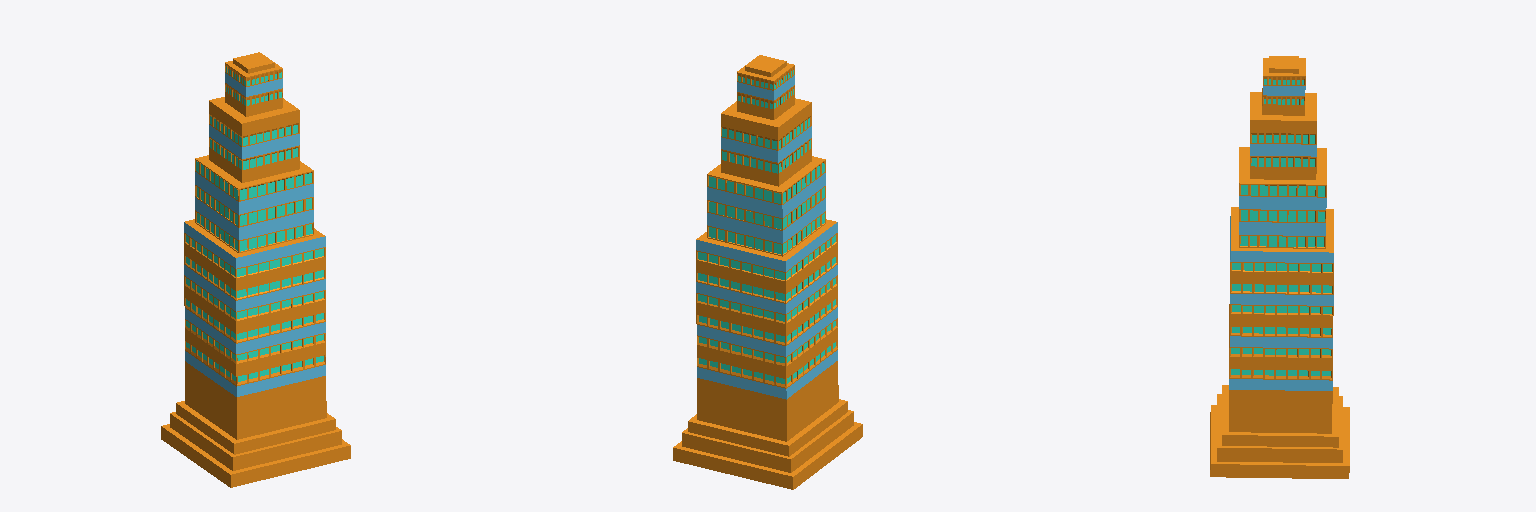
Rendered from skyscraper5.obj.
3 renders of one model, left to right at view 1: azimuth 30°, elevation 25°; view 2: azimuth 150°, elevation 25°; view 3: azimuth 270°, elevation 25°, orthographic.
Parts seen in each view (by area): view 1: Würfel.007_Würfel.017; view 2: Würfel.007_Würfel.017; view 3: Würfel.007_Würfel.017.
Boxes of the visible parts, x1=… form: Würfel.007_Würfel.017: x1=161, y1=52, x2=350, y2=487; Würfel.007_Würfel.017: x1=673, y1=55, x2=862, y2=489; Würfel.007_Würfel.017: x1=1210, y1=56, x2=1349, y2=478.
Bounding box in the file's own units: 10.78 × 33.2 × 10.79.